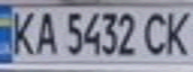2: (115, 8, 142, 57)
3: (100, 9, 121, 56)
4: (81, 8, 103, 56)
5: (60, 8, 84, 56)
A: (30, 8, 60, 56)
C: (139, 8, 172, 57)
K: (3, 7, 39, 56), (160, 7, 193, 57)
